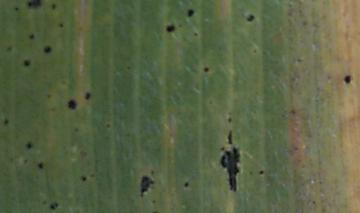tarspot: (220, 147, 241, 191), (139, 174, 154, 198), (225, 129, 234, 145), (67, 98, 77, 112), (163, 23, 176, 33), (245, 12, 256, 23), (342, 73, 352, 85), (26, 1, 43, 8), (43, 44, 53, 53), (187, 6, 194, 18), (79, 174, 88, 183), (28, 31, 36, 41), (23, 57, 31, 67), (25, 141, 33, 150), (83, 92, 91, 101), (72, 124, 80, 133), (37, 159, 43, 170), (247, 168, 255, 176), (3, 117, 10, 126), (21, 157, 30, 164), (258, 167, 265, 176), (251, 46, 258, 55), (45, 91, 52, 100), (207, 97, 214, 106), (51, 1, 57, 11), (226, 114, 232, 124), (290, 106, 296, 116), (13, 5, 20, 13), (58, 21, 65, 29), (6, 45, 14, 52), (203, 65, 210, 73), (191, 30, 199, 37), (40, 198, 48, 205), (296, 56, 303, 63), (105, 121, 111, 129), (50, 203, 55, 212), (183, 181, 189, 188), (310, 199, 317, 205), (54, 199, 59, 207), (125, 65, 132, 70)
